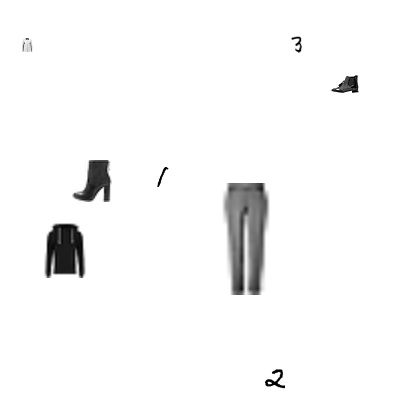1: (148, 162, 176, 190)
2: (261, 365, 289, 393)
3: (287, 32, 309, 54)
Ankle_boot: (71, 160, 113, 202), (331, 70, 359, 98)
Pullover: (37, 222, 93, 278)
Shirt: (20, 38, 34, 52)
Trouser: (188, 183, 300, 295)
